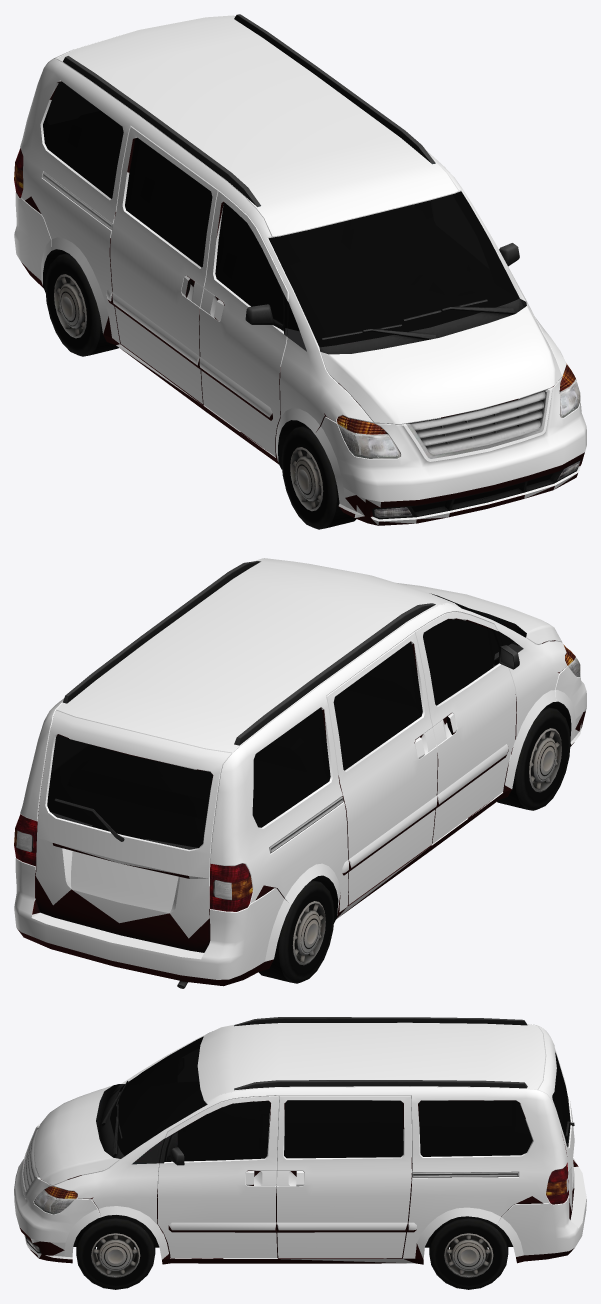
File: minivan-1.glb
The picture shows the model from 3 angles, top to bottom: view 1: azimuth 30°, elevation 25°; view 2: azimuth 150°, elevation 25°; view 3: azimuth 270°, elevation 25°; orthographic projection. The views are drawn at different scales.
Parts seen in each view (by area): view 1: body, wheel_fr, wheel_rr; view 2: body, wheel_rr, wheel_fr; view 3: body, wheel_fl, wheel_rl.
Boxes of the visible parts, bbox=[...] form: body: bbox=[14, 14, 586, 525]; wheel_fr: bbox=[281, 425, 356, 529]; wheel_rr: bbox=[45, 253, 118, 356]; body: bbox=[14, 558, 586, 988]; wheel_rr: bbox=[258, 880, 334, 983]; wheel_fr: bbox=[497, 706, 570, 810]; body: bbox=[14, 1017, 586, 1264]; wheel_fl: bbox=[76, 1215, 155, 1289]; wheel_rl: bbox=[429, 1216, 508, 1289].
Bounding box in the file's own units: 1.87 × 1.76 × 4.61.
Materials: 5 (3 with a texture image).
